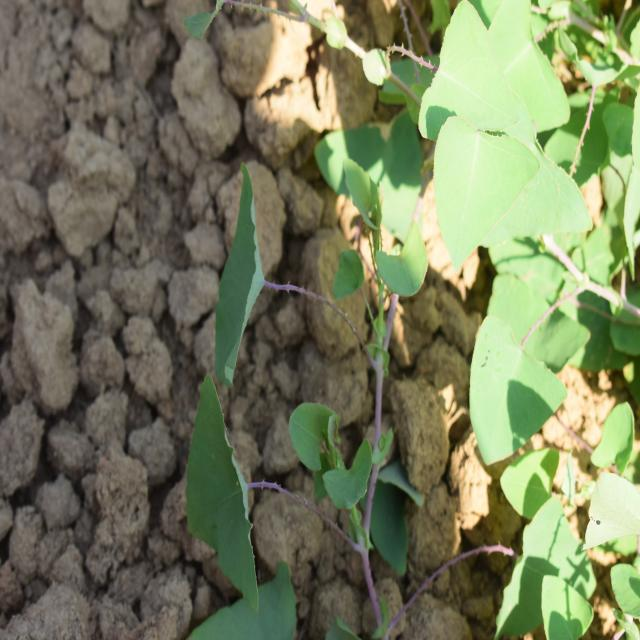Asiatic_Smartweed: (408, 0, 612, 465), (189, 171, 391, 577)
